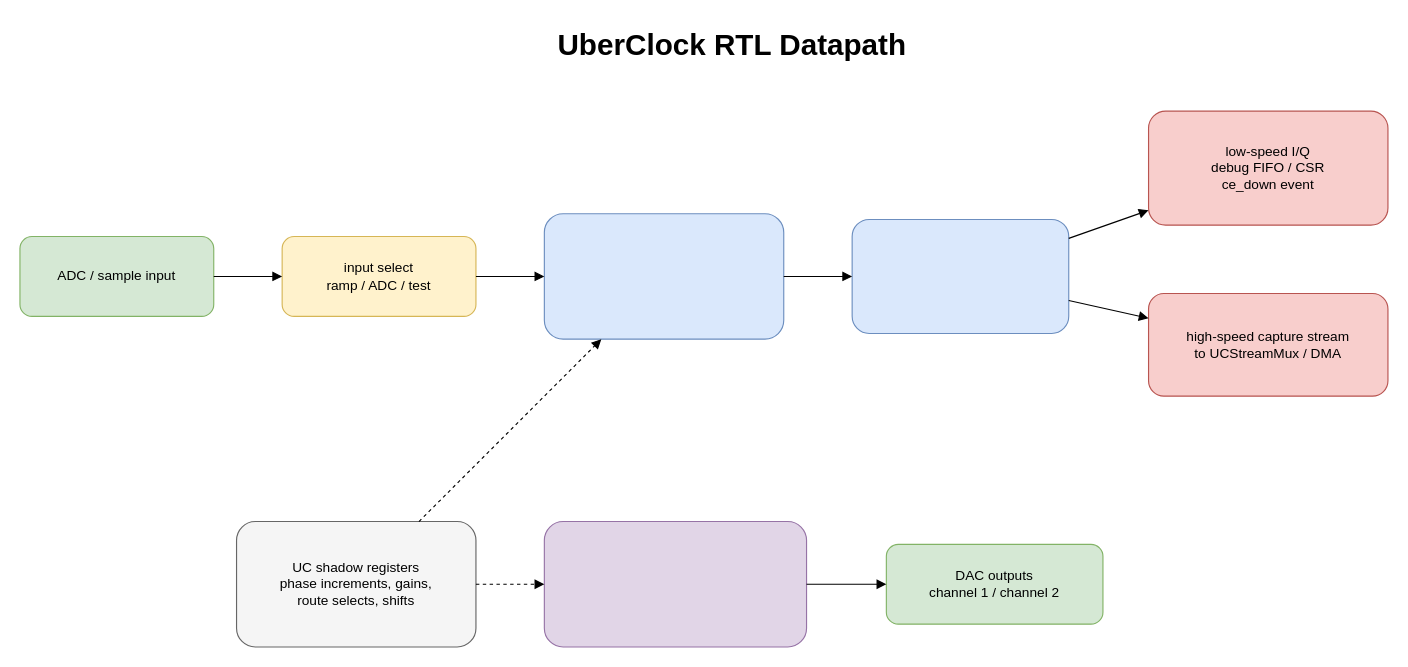
This 1408x667 diagram has some shape labels left out. Here are the shapes that lost their labels. From the top down, the box of each, then its label:
(543, 213, 784, 339): rx_channel.v CORDIC / mixer downconversion
(851, 218, 1069, 333): filters CIC, halfband, compensation
(543, 520, 807, 647): tx_channel.v upsampler mux interpolation / output routing
